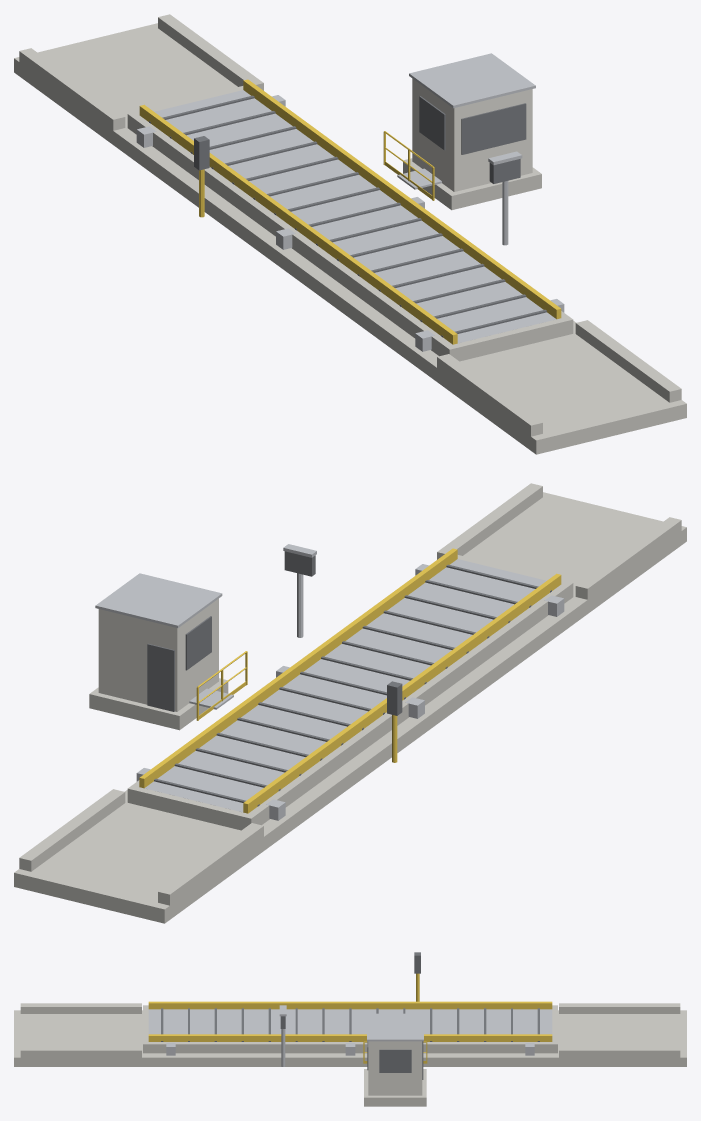
Rendered from ore-processing-and-haulage-plant-weighbridge-4c15d7de.glb.
The picture shows the model from 3 angles, top to bottom: view 1: azimuth 30°, elevation 25°; view 2: azimuth 150°, elevation 25°; view 3: azimuth 270°, elevation 25°; orthographic projection. The views are drawn at different scales.
Visible parts, largest first — view 1: weighbridge; view 2: weighbridge; view 3: weighbridge.
Boxes of the visible parts, box(x1,y1,x2,y2) form: weighbridge: box(14, 14, 686, 454); weighbridge: box(14, 483, 686, 923); weighbridge: box(14, 952, 686, 1106).
Bounding box in the file's own units: 10.07 × 3.23 × 30.
